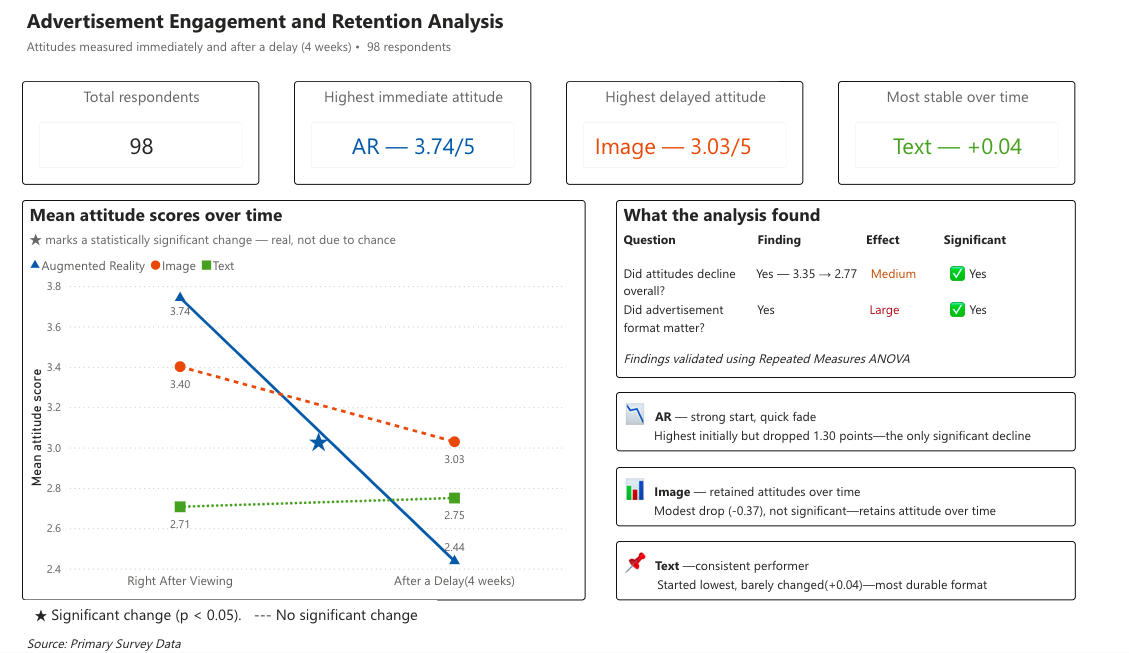

What the dashboard file says about the page in this screenshot:
{"tool":"powerbi","page":{"name":"Main Analysis","canvas":[1237,712],"ordinal":0},"visuals":[{"type":"lineChart","title":"Mean attitude scores over time","fields":{"Category":["mediaovertime4july.Time"],"Y":["mediaovertime4july.Average"],"Series":["mediaovertime4july.Media_Type"]},"box":[64,224,608,432],"z":0},{"type":"cardVisual","title":"Total respondents","fields":{"Data":["mediaovertime4july.Total"]},"box":[64,96,256,112],"z":1000},{"type":"cardVisual","title":"Highest delayed attitude","fields":{"Data":["mediaovertime4july.image_custom"]},"box":[650.7,96,256,112],"z":2000},{"type":"cardVisual","title":"Most stable over time","fields":{"Data":["mediaovertime4july.Over_time_custom"]},"box":[944,96,256,112],"z":3000},{"type":"cardVisual","title":"Highest immediate attitude","fields":{"Data":["mediaovertime4july.AR_custom"]},"box":[357.3,96,256,112],"z":4000},{"type":"textbox","box":[368,448,48,64],"z":5000},{"type":"textbox","title":" What the analysis found","box":[704,224,496,192],"z":6000},{"type":"textbox","box":[704,432,496,64],"z":7000},{"type":"textbox","box":[704,512,496,64],"z":8000},{"type":"textbox","box":[704,592,496,64],"z":9000},{"type":"textbox","box":[64,656,448,32],"z":10000},{"type":"textbox","title":"Advertisement Engagement and Retention Analysis","box":[64,16,816,80],"z":11000},{"type":"textbox","box":[64,688,480,32],"z":12000}]}

Visuals, with their boxes in screenshot pixels (x1, y1, x2, y2), scaled from the page's 1237x712 canvas onto the 1129x653 screenshot:
"Mean attitude scores over time" lineChart: (58, 205, 613, 602)
"Total respondents" cardVisual: (58, 88, 292, 191)
"Highest delayed attitude" cardVisual: (594, 88, 828, 191)
"Most stable over time" cardVisual: (862, 88, 1095, 191)
"Highest immediate attitude" cardVisual: (326, 88, 560, 191)
textbox: (336, 411, 380, 470)
" What the analysis found" textbox: (643, 205, 1095, 382)
textbox: (643, 396, 1095, 455)
textbox: (643, 470, 1095, 528)
textbox: (643, 543, 1095, 602)
textbox: (58, 602, 467, 631)
"Advertisement Engagement and Retention Analysis" textbox: (58, 15, 803, 88)
textbox: (58, 631, 497, 652)
